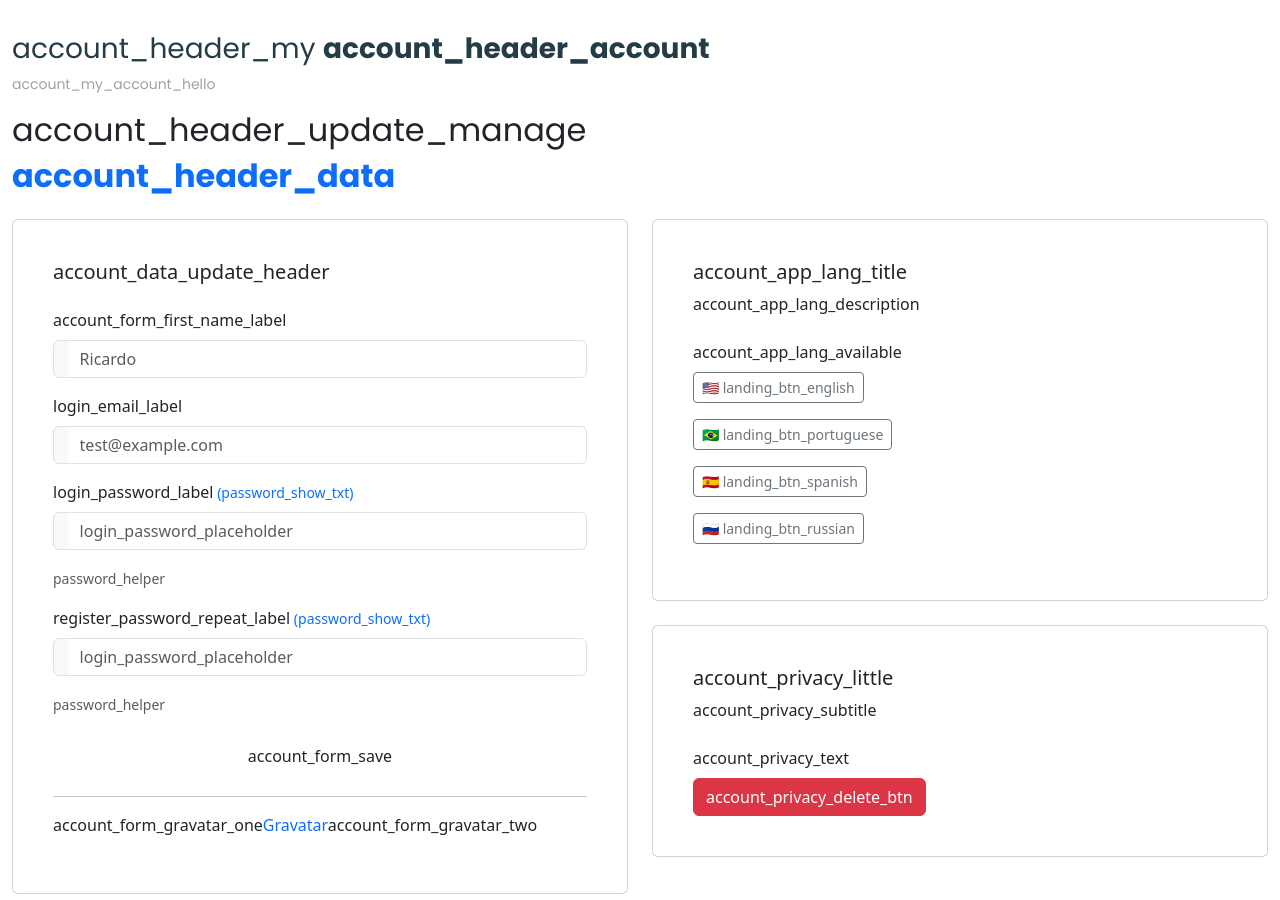
it: Account Component › should show alert when delete button is clicked
Click the button "account_privacy_delete_btn" at (809, 797), box [693,778,926,816]
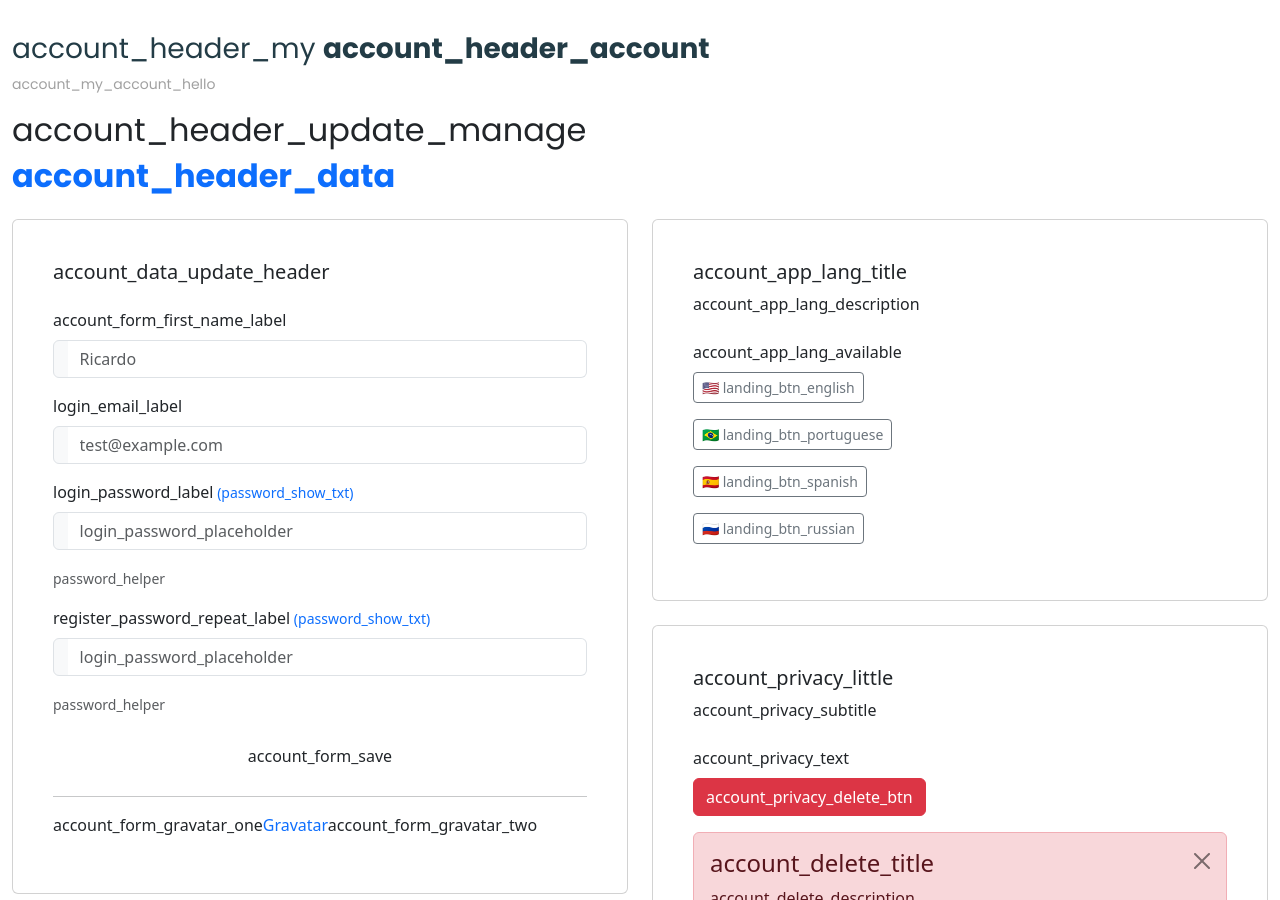
Expected: the text "account_delete_title" is shown, [710,846,934,879]
